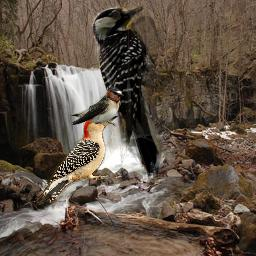Swallow: (70, 87, 125, 127)
Woodpecker: (91, 5, 179, 184), (32, 115, 118, 207)
